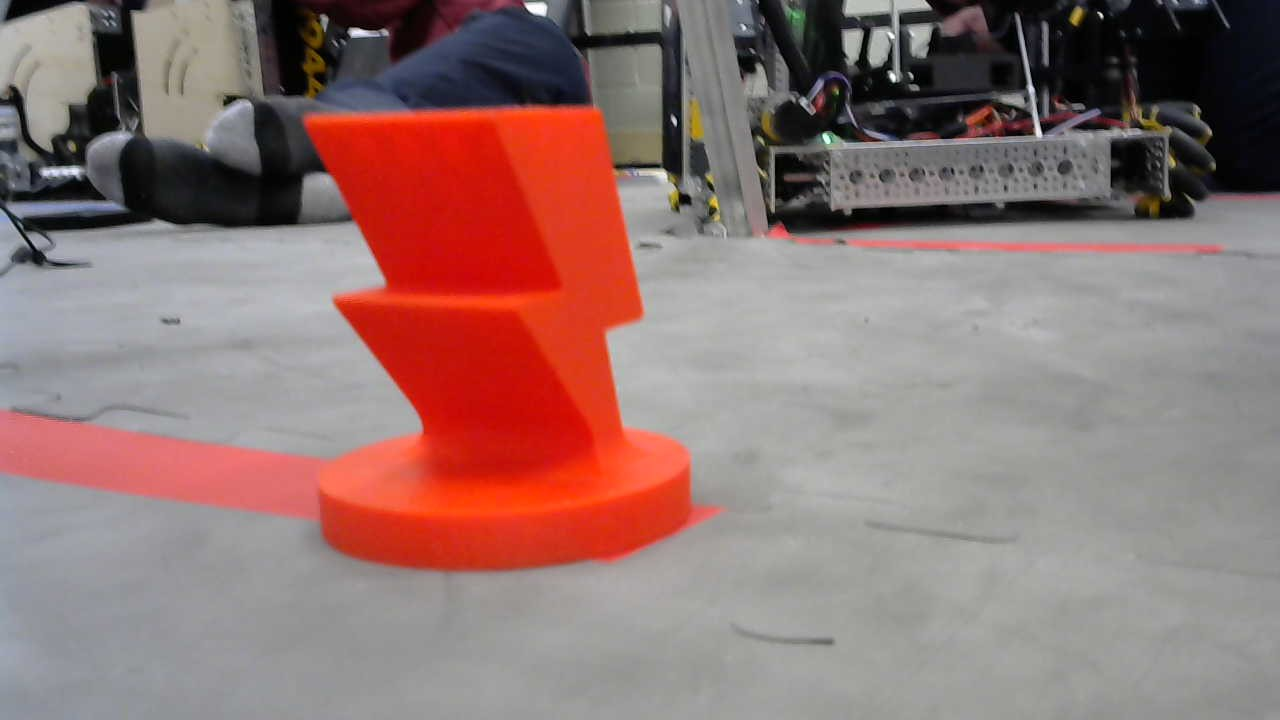redobject: (292, 106, 700, 578)
